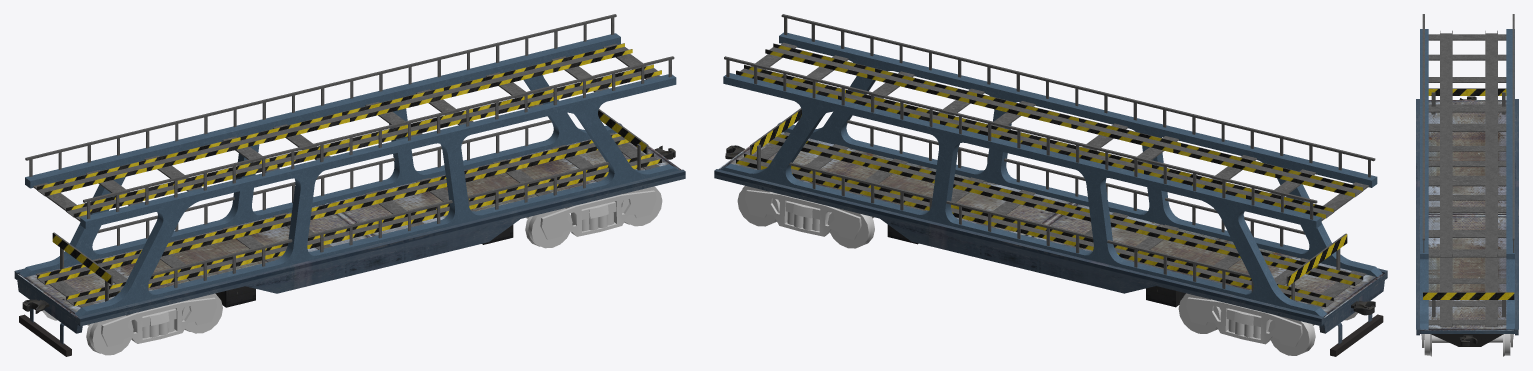
Rendered from TrainWagonVehicle01.FBX.
3 renders of one model, left to right at view 1: azimuth 30°, elevation 25°; view 2: azimuth 150°, elevation 25°; view 3: azimuth 270°, elevation 25°, orthographic. The views are drawn at different scales.
Parts seen in each view (by area): view 1: TrainWagonVehicle01b, TrainWagonVehicle01c, TrainWagonVehicle01a, TrainWagonVehicle01d, TrainWagonVehicle0Wheels, TrainWagonVehicle01c2, TrainWagonVehicle0Detail; view 2: TrainWagonVehicle01b, TrainWagonVehicle01c, TrainWagonVehicle01a, TrainWagonVehicle01d, TrainWagonVehicle0Wheels, TrainWagonVehicle01c2, TrainWagonVehicle0Detail; view 3: TrainWagonVehicle01a, TrainWagonVehicle01c, TrainWagonVehicle01d, TrainWagonVehicle01b, TrainWagonVehicle01c2, TrainWagonVehicle0Detail, TrainWagonVehicle0Wheels.
Part boxes in pixels (x1,y1,x2,y2): TrainWagonVehicle01b: (19, 33, 679, 316); TrainWagonVehicle01c: (37, 43, 661, 306); TrainWagonVehicle01a: (14, 123, 685, 356); TrainWagonVehicle01d: (25, 14, 674, 307); TrainWagonVehicle0Wheels: (42, 186, 662, 355); TrainWagonVehicle01c2: (52, 109, 648, 301); TrainWagonVehicle0Detail: (22, 145, 675, 313); TrainWagonVehicle01b: (720, 32, 1382, 316); TrainWagonVehicle01c: (736, 43, 1363, 307); TrainWagonVehicle01a: (714, 122, 1387, 356); TrainWagonVehicle01d: (724, 14, 1375, 307); TrainWagonVehicle0Wheels: (737, 185, 1357, 355); TrainWagonVehicle01c2: (750, 108, 1347, 300); TrainWagonVehicle0Detail: (725, 145, 1375, 315); TrainWagonVehicle01a: (1416, 99, 1518, 335); TrainWagonVehicle01c: (1440, 30, 1497, 326); TrainWagonVehicle01d: (1422, 14, 1514, 325); TrainWagonVehicle01b: (1420, 29, 1514, 329); TrainWagonVehicle01c2: (1423, 88, 1514, 317); TrainWagonVehicle0Detail: (1431, 96, 1503, 346); TrainWagonVehicle0Wheels: (1421, 334, 1513, 356).
Size of the model in its own units: 22575 by 5484 by 3982.
